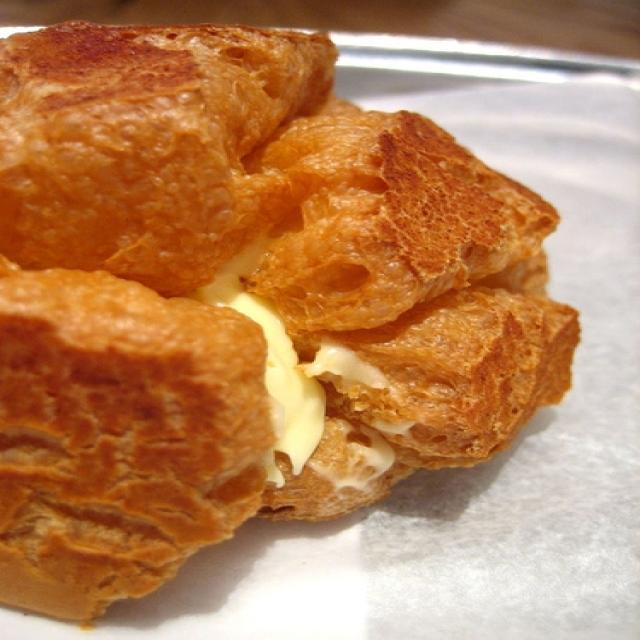炸货点心: (7, 23, 602, 631)
蛋糕甜品: (7, 23, 602, 631)
